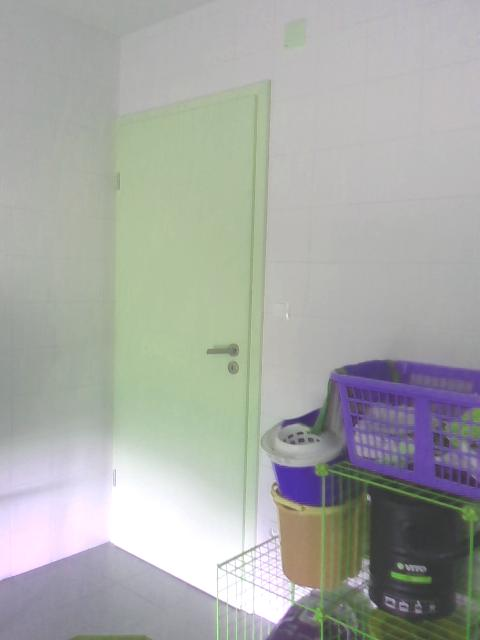closed_door: (108, 81, 267, 619)
